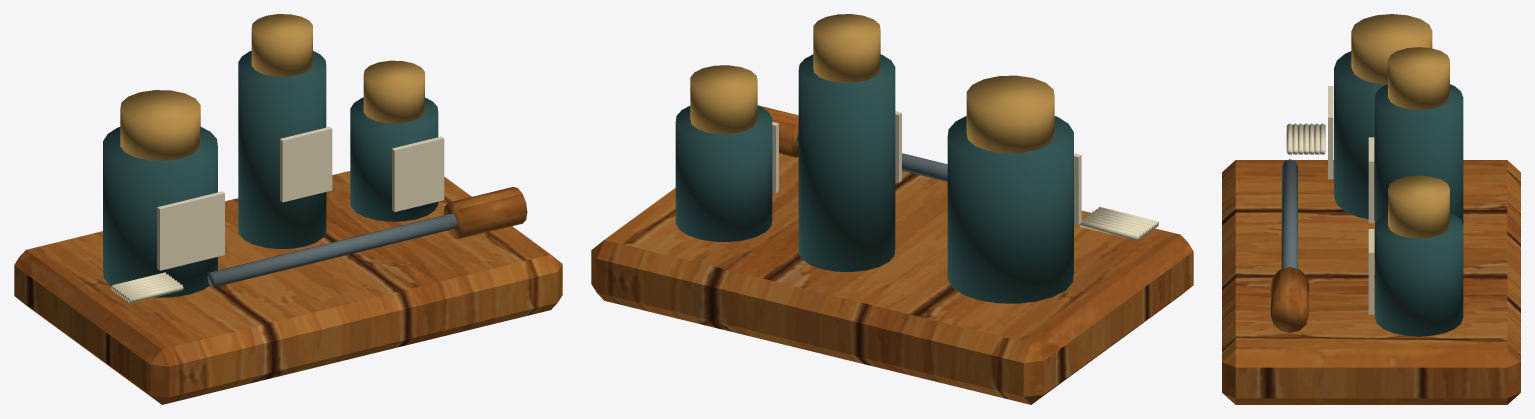
3 views of the same model, side by side, from view 1: azimuth 30°, elevation 25°; view 2: azimuth 150°, elevation 25°; view 3: azimuth 270°, elevation 25° (orthographic). The views are drawn at different scales.
Parts seen in each view (by area): view 1: clockshop_walnut, clockshop_teal, clockshop_ivory, clockshop_brass, clockshop_steel; view 2: clockshop_walnut, clockshop_teal, clockshop_brass, clockshop_ivory, clockshop_steel; view 3: clockshop_walnut, clockshop_teal, clockshop_brass, clockshop_ivory, clockshop_steel.
Part boxes in pixels (left/top/right/bottom): clockshop_walnut: left=14, top=171, right=562, bottom=404; clockshop_teal: left=103, top=51, right=438, bottom=297; clockshop_ivory: left=111, top=127, right=444, bottom=303; clockshop_brass: left=120, top=14, right=424, bottom=160; clockshop_steel: left=207, top=213, right=456, bottom=287; clockshop_walnut: left=591, top=105, right=1193, bottom=404; clockshop_teal: left=675, top=54, right=1073, bottom=303; clockshop_brass: left=690, top=14, right=1054, bottom=153; clockshop_ivory: left=772, top=111, right=1158, bottom=240; clockshop_steel: left=797, top=134, right=947, bottom=181; clockshop_walnut: left=1222, top=160, right=1520, bottom=404; clockshop_teal: left=1334, top=51, right=1463, bottom=336; clockshop_brass: left=1351, top=14, right=1449, bottom=238; clockshop_ivory: left=1286, top=86, right=1374, bottom=314; clockshop_steel: left=1281, top=159, right=1297, bottom=268.
Size of the model in its own units: 0.7 by 0.42 by 0.44.
5 materials, 1 textured.
